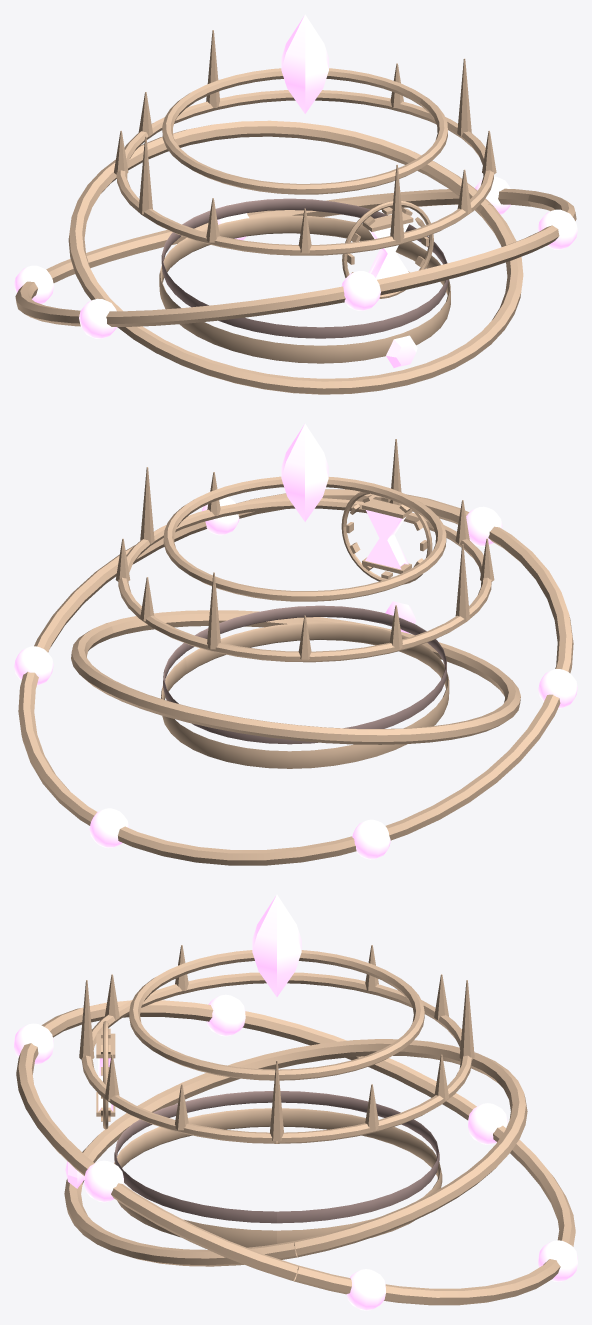
File: asc_timeweaver_helm.glb
3 renders of one model, top to bottom at view 1: azimuth 30°, elevation 25°; view 2: azimuth 150°, elevation 25°; view 3: azimuth 270°, elevation 25°, orthographic. The views are drawn at different scales.
Parts seen in each view (by area): view 1: asc_timeweaver_helm; view 2: asc_timeweaver_helm; view 3: asc_timeweaver_helm.
Boxes of the visible parts, x1,y1,x2,y2 form: asc_timeweaver_helm: [14, 14, 577, 394]; asc_timeweaver_helm: [14, 423, 577, 865]; asc_timeweaver_helm: [14, 894, 577, 1310].
Size of the model in its own units: 0.6236 by 0.4115 by 0.593.
